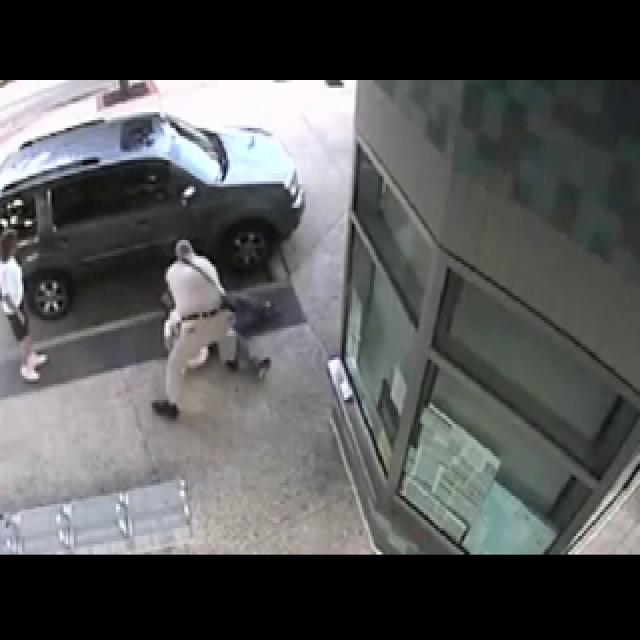arrest: (164, 219, 276, 430)
